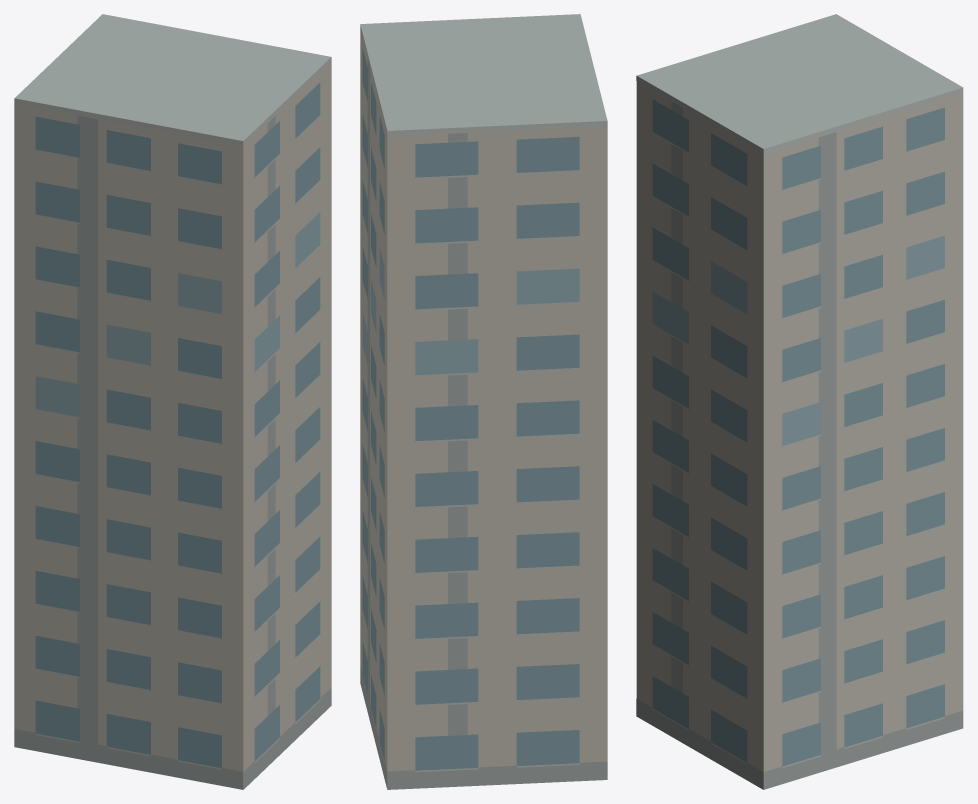
Rendered from residential-c1b46b33-e0d3-403d-b246-904df235bedd.glb.
3 renders of one model, left to right at view 1: azimuth 30°, elevation 25°; view 2: azimuth 150°, elevation 25°; view 3: azimuth 270°, elevation 25°, orthographic. The views are drawn at different scales.
Parts seen in each view (by area): view 1: residential-c1b46b33-e0d3-403d-b246-904df235bedd.tmp; view 2: residential-c1b46b33-e0d3-403d-b246-904df235bedd.tmp; view 3: residential-c1b46b33-e0d3-403d-b246-904df235bedd.tmp.
Boxes of the visible parts, bbox=[...] form: residential-c1b46b33-e0d3-403d-b246-904df235bedd.tmp: bbox=[14, 14, 331, 789]; residential-c1b46b33-e0d3-403d-b246-904df235bedd.tmp: bbox=[360, 14, 607, 789]; residential-c1b46b33-e0d3-403d-b246-904df235bedd.tmp: bbox=[636, 14, 963, 789].
Bounding box in the file's own units: 13.12 × 29 × 13.41.
